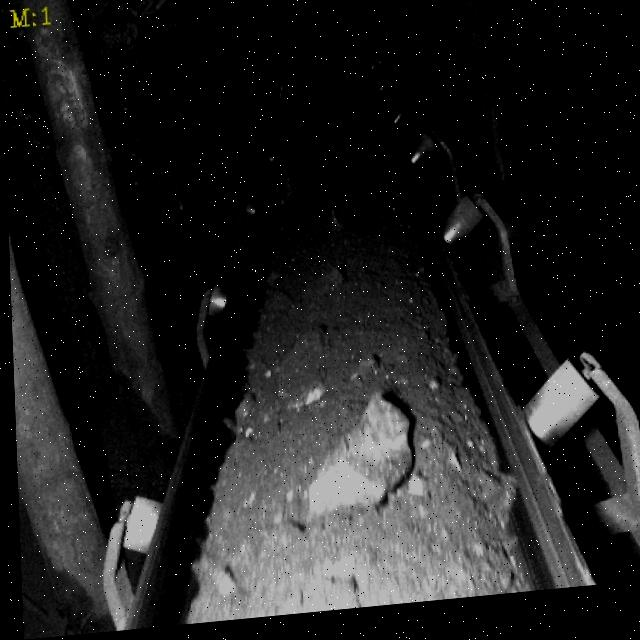large_sized_coal: (295, 398, 416, 532)
